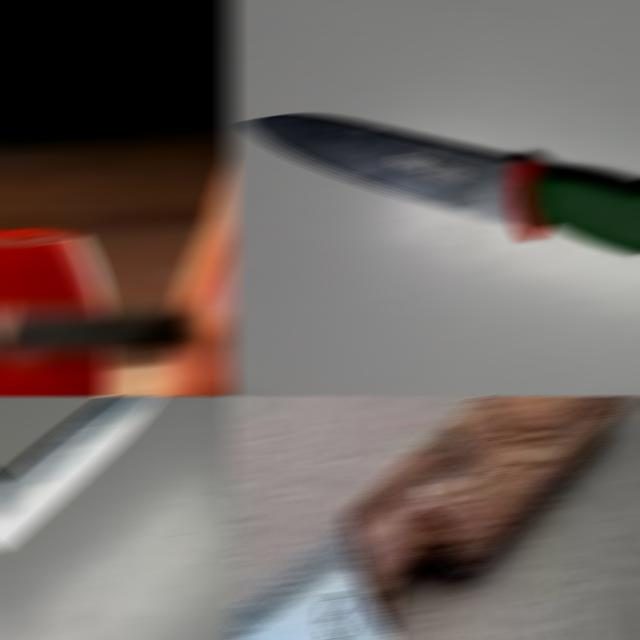Knife: (243, 114, 640, 253), (0, 396, 163, 550)
Knife_Handle: (0, 42, 234, 396)
